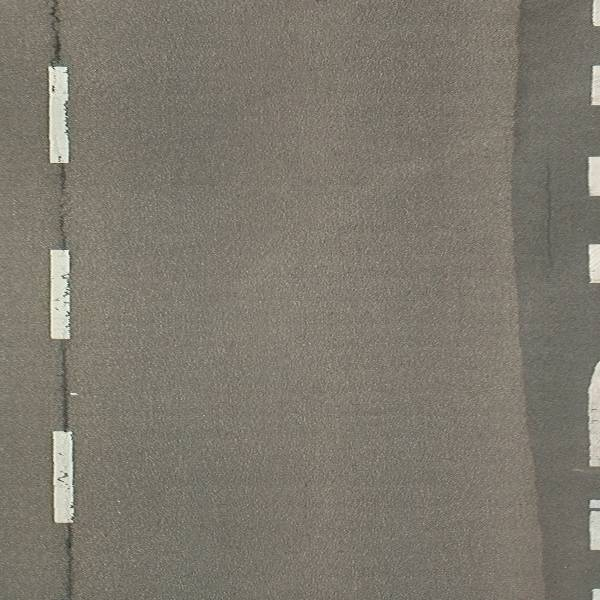road_damage: (46, 1, 65, 66)
